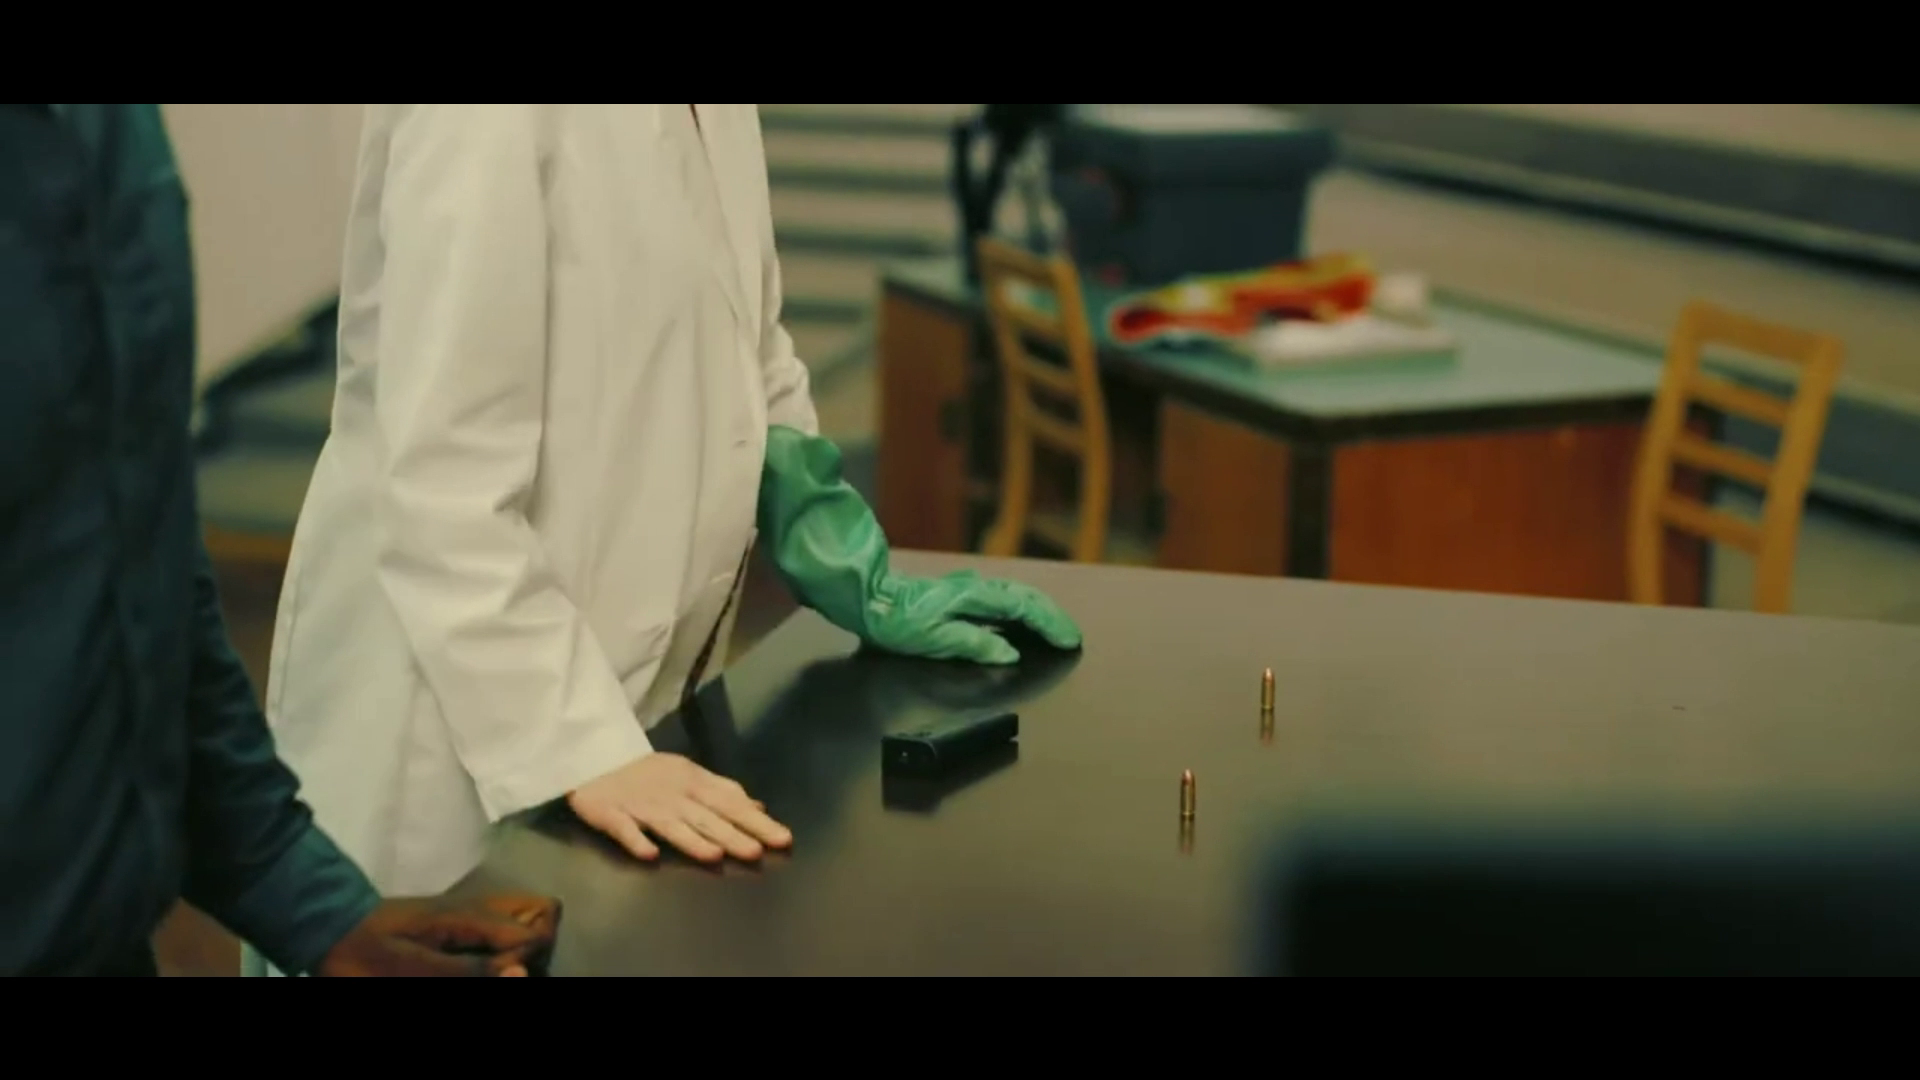Bullet: (1178, 770, 1197, 824), (1261, 666, 1274, 708)
